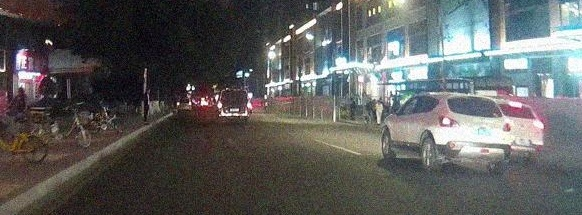L_light: (439, 115, 460, 127), (218, 101, 222, 111)
R_light: (502, 122, 511, 132), (247, 102, 252, 111)
T_light: (470, 97, 479, 100), (232, 91, 237, 93)
night-left: (437, 93, 512, 176)
night-no: (217, 89, 252, 125)
